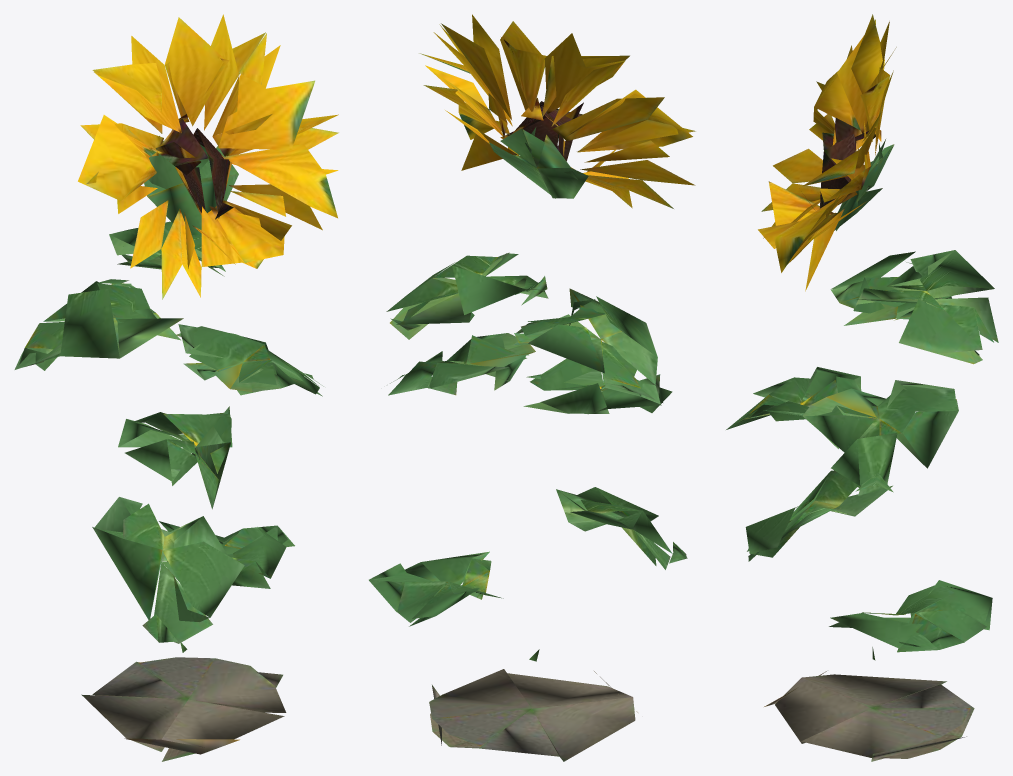
Rendered from crop-sunflower.lod1.glb.
3 renders of one model, left to right at view 1: azimuth 30°, elevation 25°; view 2: azimuth 150°, elevation 25°; view 3: azimuth 270°, elevation 25°, orthographic. The views are drawn at different scales.
Parts seen in each view (by area): view 1: plant.001, fruit.001; view 2: plant.001, fruit.001; view 3: plant.001, fruit.001.
Boxes of the visible parts, x1,y1,x2,y2 form: plant.001: [14, 129, 323, 751]; fruit.001: [78, 14, 338, 761]; plant.001: [369, 127, 687, 761]; fruit.001: [419, 14, 695, 745]; plant.001: [726, 139, 998, 758]; fruit.001: [758, 14, 966, 761].
Size of the model in its own units: 0.6962 by 1.62 by 0.5841.
Materials: 1 (1 with a texture image).
